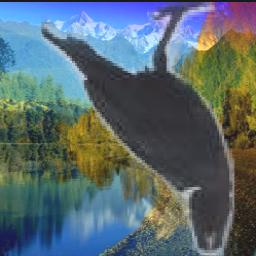Crow: (40, 3, 236, 256)
